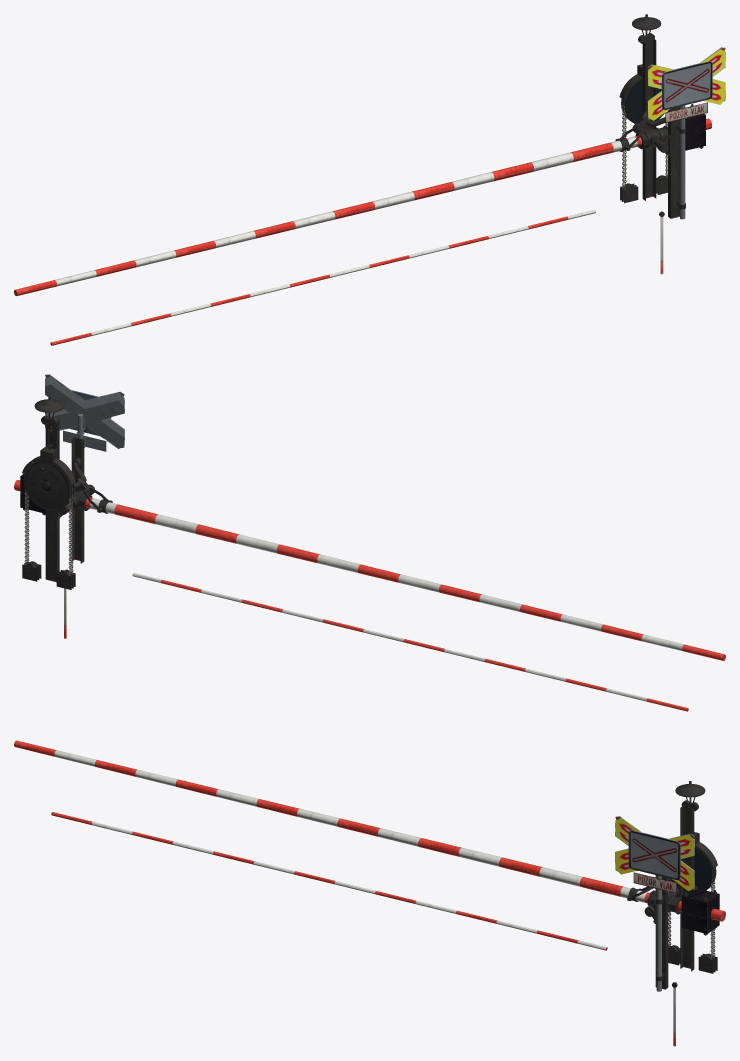
The model's file is zavora_mech.obj.
3 views of the same model, one above another, from view 1: azimuth 30°, elevation 25°; view 2: azimuth 150°, elevation 25°; view 3: azimuth 330°, elevation 25° (orthographic).
Parts seen in each view (by area): view 1: zm_brevno_80, zm_mriz_spodek_80, zm_kriz_sk, zm_sloup, zm_kriz_xk_refl_velky, zm_sloupek, zm_kolo, zm_zavazi, zm_objimka, zm_stozar; view 2: zm_brevno_80, zm_mriz_spodek_80, zm_kolo2, zm_sloup, zm_sloupek, zm_kriz_1k_refl_maly, zm_kriz_1k_refl_velky, zm_zvonek, zm_kriz_xk_refl_velky, zm_kladka2, zm_kryt2; view 3: zm_brevno_80, zm_mriz_spodek_80, zm_kriz_sk, zm_zavazi, zm_sloup, zm_kriz_xk_refl_velky, zm_sloupek, zm_kolo, zm_stozar, zm_kladka, zm_pozor_vlak.
Boxes of the visible parts, x1=… form: zm_brevno_80: x1=14, y1=118, x2=712, y2=295; zm_mriz_spodek_80: x1=50, y1=209, x2=595, y2=345; zm_kriz_sk: x1=661, y1=61, x2=712, y2=109; zm_sloup: x1=642, y1=38, x2=656, y2=200; zm_kriz_xk_refl_velky: x1=647, y1=49, x2=725, y2=120; zm_sloupek: x1=668, y1=106, x2=679, y2=218; zm_kolo: x1=624, y1=79, x2=679, y2=126; zm_zavazi: x1=685, y1=104, x2=705, y2=150; zm_objimka: x1=615, y1=125, x2=667, y2=151; zm_stozar: x1=680, y1=105, x2=685, y2=219; zm_brevno_80: x1=14, y1=480, x2=725, y2=660; zm_mriz_spodek_80: x1=132, y1=573, x2=688, y2=711; zm_kolo2: x1=23, y1=460, x2=72, y2=510; zm_sloup: x1=45, y1=419, x2=59, y2=582; zm_sloupek: x1=71, y1=437, x2=84, y2=563; zm_kriz_1k_refl_maly: x1=60, y1=396, x2=108, y2=437; zm_kriz_1k_refl_velky: x1=45, y1=384, x2=124, y2=447; zm_zvonek: x1=34, y1=396, x2=64, y2=449; zm_kriz_xk_refl_velky: x1=45, y1=376, x2=124, y2=448; zm_kladka2: x1=22, y1=563, x2=73, y2=589; zm_kryt2: x1=22, y1=447, x2=75, y2=485; zm_brevno_80: x1=14, y1=740, x2=725, y2=921; zm_mriz_spodek_80: x1=51, y1=812, x2=607, y2=950; zm_kriz_sk: x1=628, y1=830, x2=680, y2=880; zm_zavazi: x1=681, y1=885, x2=719, y2=935; zm_sloup: x1=680, y1=805, x2=694, y2=971; zm_kriz_xk_refl_velky: x1=615, y1=817, x2=694, y2=891; zm_sloupek: x1=655, y1=875, x2=668, y2=989; zm_kolo: x1=668, y1=847, x2=713, y2=890; zm_stozar: x1=656, y1=875, x2=661, y2=991; zm_kladka: x1=668, y1=946, x2=715, y2=973; zm_pozor_vlak: x1=633, y1=872, x2=676, y2=893.
Bounding box in the file's own units: 5.83 × 1.99 × 0.6596.
